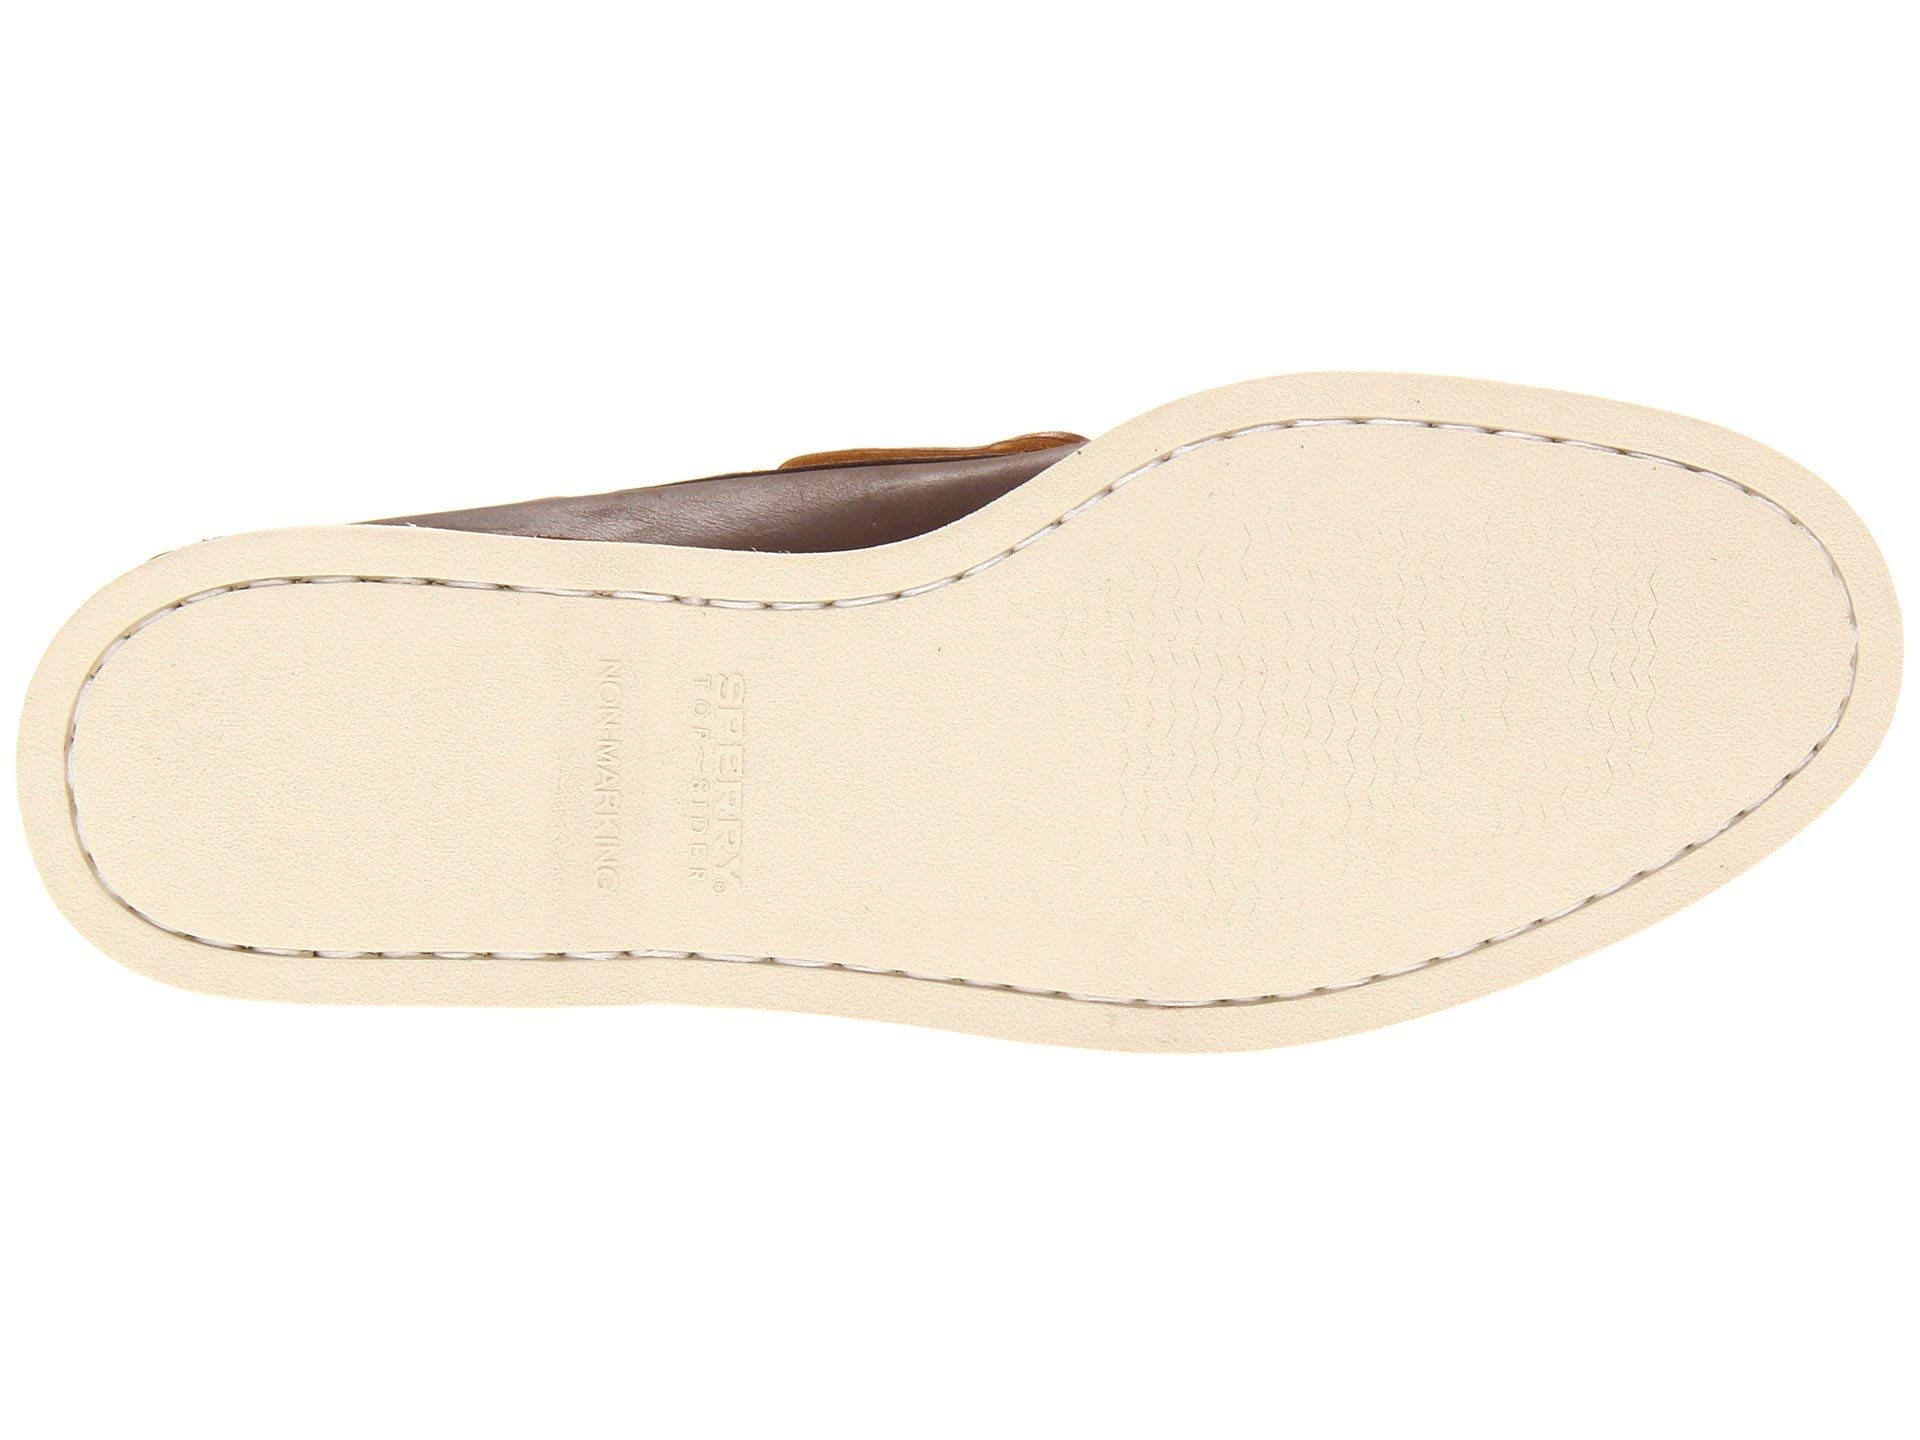circle: (528, 596, 809, 968)
line: (1070, 492, 1674, 867), (528, 596, 809, 968)
text: (528, 596, 809, 968)
